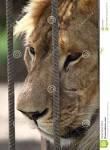lion: (14, 2, 100, 150)
